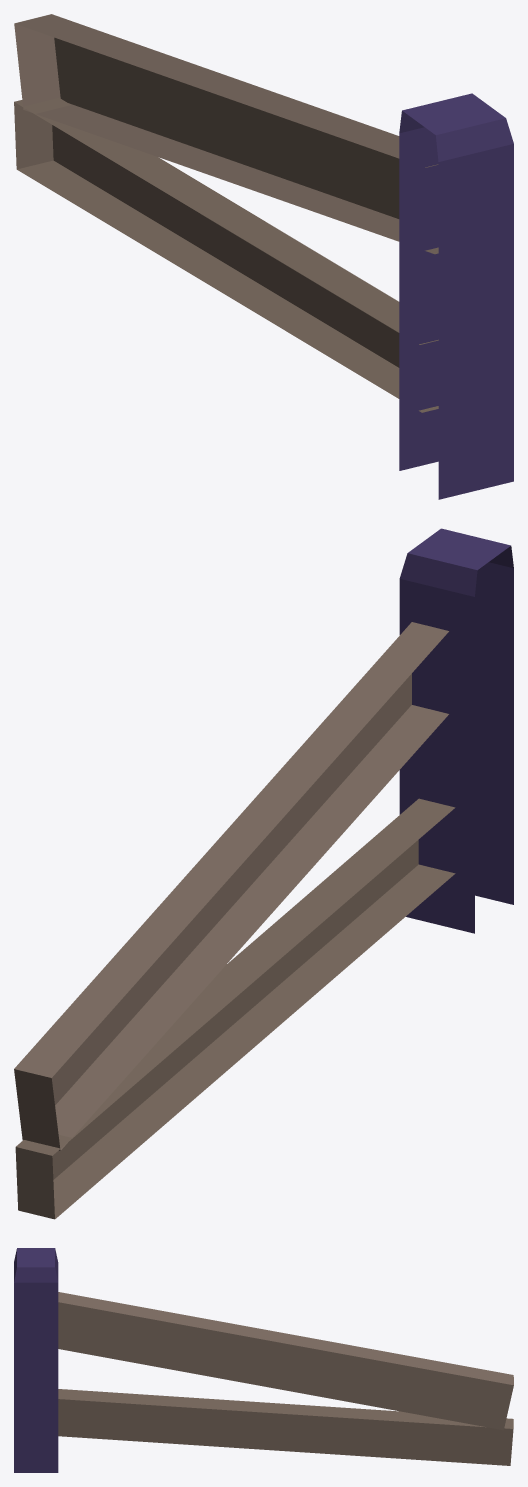
Rendered from brokenRight.fbx.
The picture shows the model from 3 angles, top to bottom: view 1: azimuth 30°, elevation 25°; view 2: azimuth 150°, elevation 25°; view 3: azimuth 270°, elevation 25°; orthographic projection. The views are drawn at different scales.
Visible parts, largest first — view 1: Cube, Cube.002, Cube.003; view 2: Cube.002, Cube.003, Cube; view 3: Cube.002, Cube.003, Cube.
Boxes of the visible parts, x1,y1,x2,y2 form: Cube: [399, 93, 513, 499]; Cube.002: [14, 14, 438, 254]; Cube.003: [14, 98, 438, 412]; Cube.002: [14, 622, 448, 1150]; Cube.003: [15, 798, 455, 1219]; Cube: [399, 528, 513, 933]; Cube.002: [58, 1292, 513, 1430]; Cube.003: [58, 1389, 513, 1465]; Cube: [14, 1248, 58, 1472].
Size of the model in its own units: 43.56 by 200 by 444.
